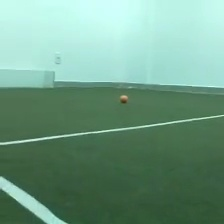ball: (118, 92, 129, 104)
goal: (1, 66, 57, 90)
